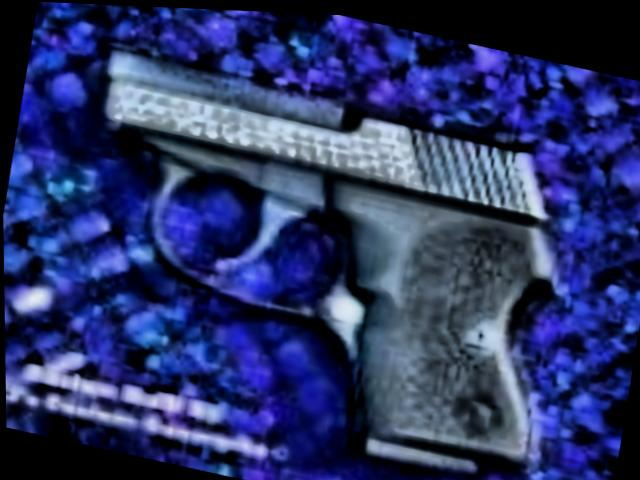pistol: (36, 27, 591, 480)
